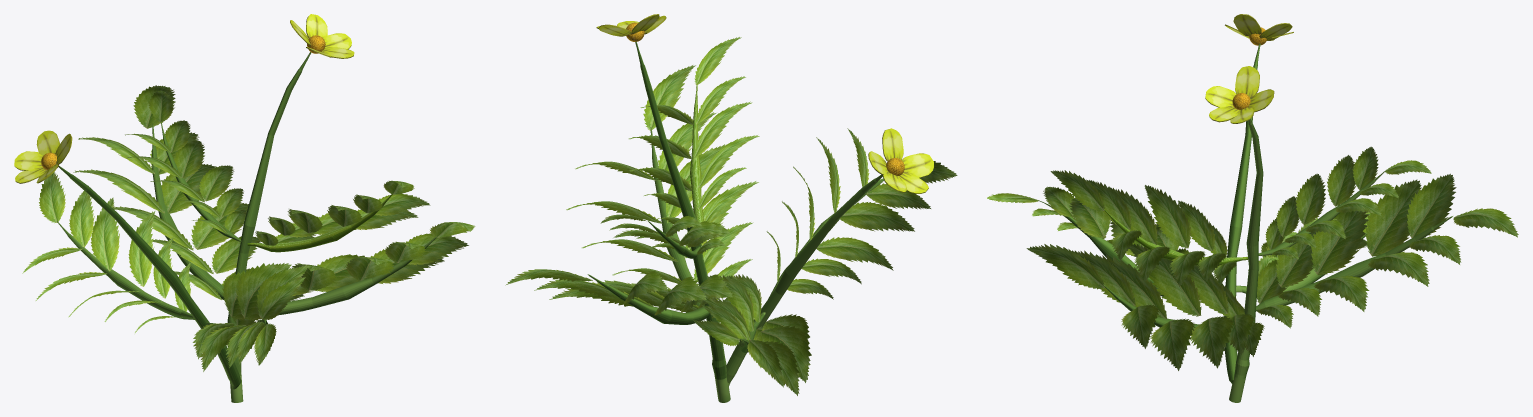
The model's file is argentina anserina2.fbx.
The picture shows the model from 3 angles, left to right: view 1: azimuth 30°, elevation 25°; view 2: azimuth 150°, elevation 25°; view 3: azimuth 270°, elevation 25°; orthographic projection. The views are drawn at different scales.
Visible parts, largest first — view 1: polySurface87, polySurface26, polySurface63, polySurface46, polySurface36, polySurface19, polySurface75, polySurface103, polySurface72, polySurface105, polySurface32, polySurface34 (+36 smaller); view 2: polySurface87, polySurface26, polySurface49, polySurface33, polySurface45, polySurface64, polySurface103, polySurface47, polySurface75, polySurface63, polySurface85, polySurface35 (+36 smaller); view 3: polySurface87, polySurface104, polySurface96, polySurface26, polySurface95, polySurface69, polySurface81, polySurface64, polySurface74, polySurface70, polySurface103, polySurface73 (+30 smaller).
Boxes of the visible parts, <box> form: polySurface87: <box>227,52,311,402</box>; polySurface26: <box>58,166,241,389</box>; polySurface63: <box>278,237,436,315</box>; polySurface46: <box>235,263,291,320</box>; polySurface36: <box>90,197,119,271</box>; polySurface19: <box>57,221,194,319</box>; polySurface75: <box>247,194,392,252</box>; polySurface103: <box>152,123,224,299</box>; polySurface72: <box>406,233,468,265</box>; polySurface105: <box>161,164,215,213</box>; polySurface32: <box>128,211,155,286</box>; polySurface34: <box>69,190,94,247</box>; polySurface87: <box>635,41,730,402</box>; polySurface26: <box>726,174,882,386</box>; polySurface49: <box>839,202,914,231</box>; polySurface33: <box>756,325,811,382</box>; polySurface45: <box>816,237,893,270</box>; polySurface64: <box>643,65,695,130</box>; polySurface103: <box>587,274,710,324</box>; polySurface47: <box>866,183,930,209</box>; polySurface75: <box>690,83,703,243</box>; polySurface63: <box>650,127,700,306</box>; polySurface85: <box>694,101,752,158</box>; polySurface35: <box>747,339,783,387</box>; polySurface87: <box>1229,119,1263,402</box>; polySurface104: <box>1365,179,1421,256</box>; polySurface96: <box>1311,210,1369,275</box>; polySurface26: <box>1224,44,1260,383</box>; polySurface95: <box>1406,173,1456,237</box>; polySurface69: <box>1129,243,1201,316</box>; polySurface81: <box>1144,185,1191,248</box>; polySurface64: <box>1026,244,1104,289</box>; polySurface74: <box>1150,318,1195,370</box>; polySurface70: <box>1189,316,1234,368</box>; polySurface103: <box>1256,216,1452,311</box>; polySurface73: <box>1095,255,1167,318</box>.
Size of the model in its own units: 17.84 by 15.55 by 20.56.
